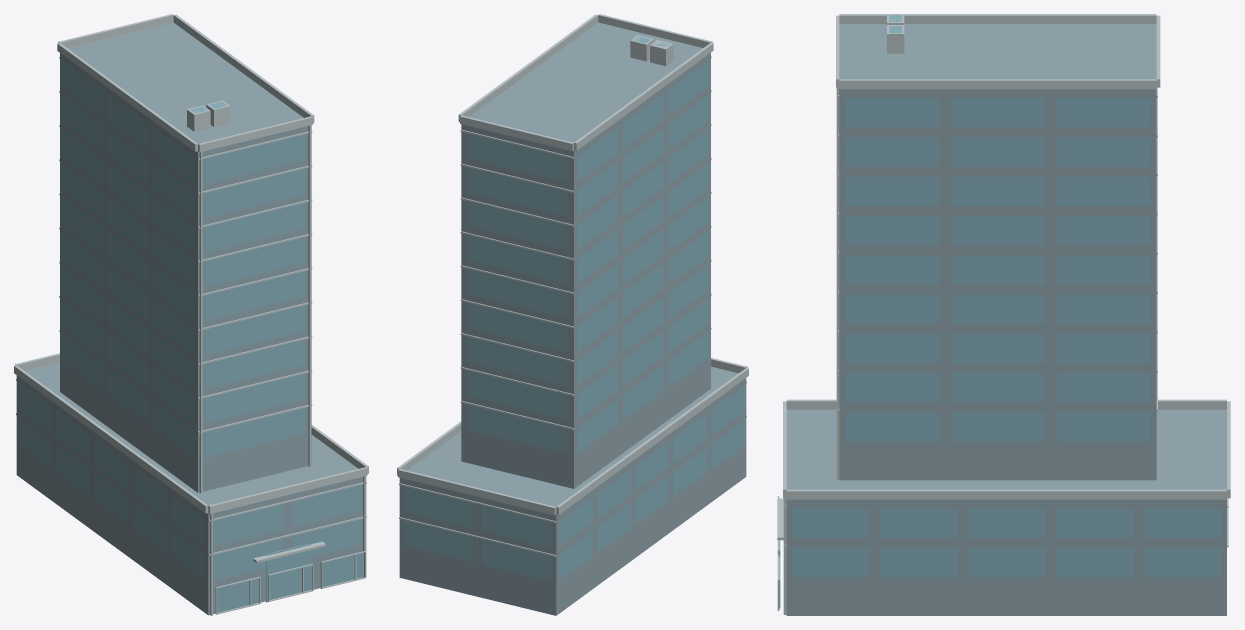
Rendered from commercial_2x4_b.glb.
The picture shows the model from 3 angles, left to right: view 1: azimuth 30°, elevation 25°; view 2: azimuth 150°, elevation 25°; view 3: azimuth 270°, elevation 25°; orthographic projection. The views are drawn at different scales.
Parts seen in each view (by area): view 1: commercial_2x4_b_0; view 2: commercial_2x4_b_0; view 3: commercial_2x4_b_0.
Boxes of the visible parts, box(x1,y1,x2,y2) form: commercial_2x4_b_0: box(14, 14, 368, 615); commercial_2x4_b_0: box(397, 14, 748, 615); commercial_2x4_b_0: box(777, 14, 1230, 615).
Bounding box in the file's own units: 15 × 40.5 × 31.4.
